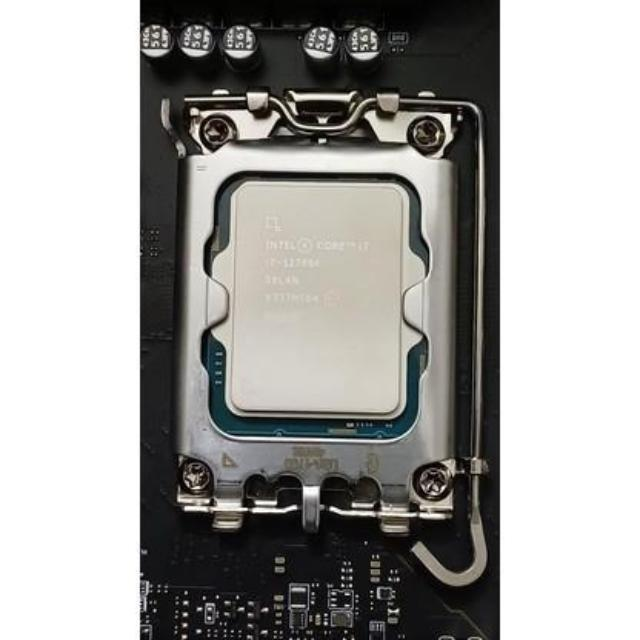CPU: (213, 172, 418, 432)
